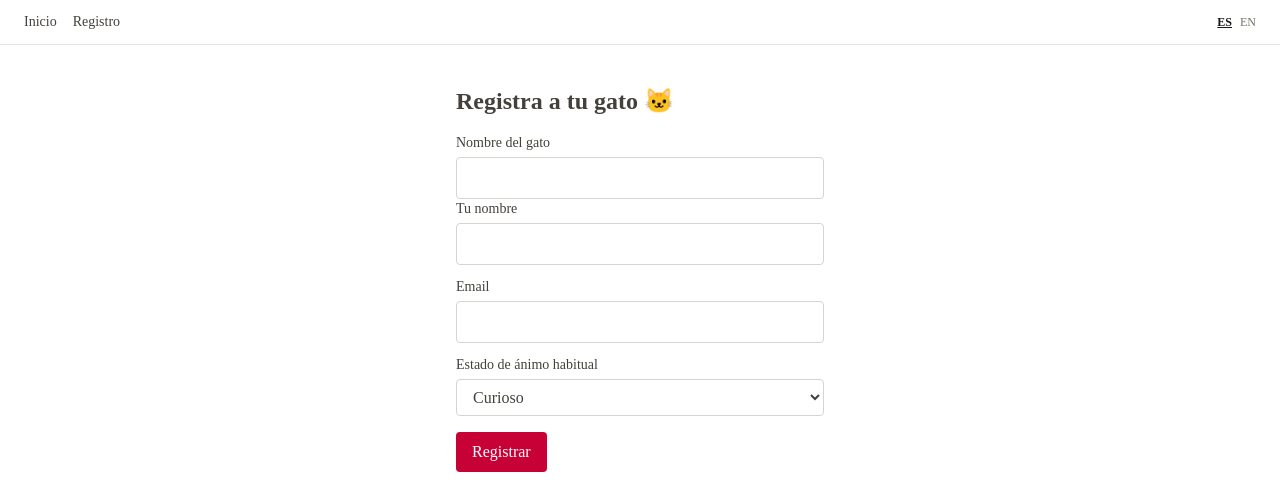
Cambio de idioma en Registro › el formulario cambia de español a inglés sin perder la ruta
Expected: the heading "Registra a tu gato 🐱" is shown, [456, 88, 674, 114]
Click the link "EN" at (1248, 22), box [1240, 14, 1256, 30]
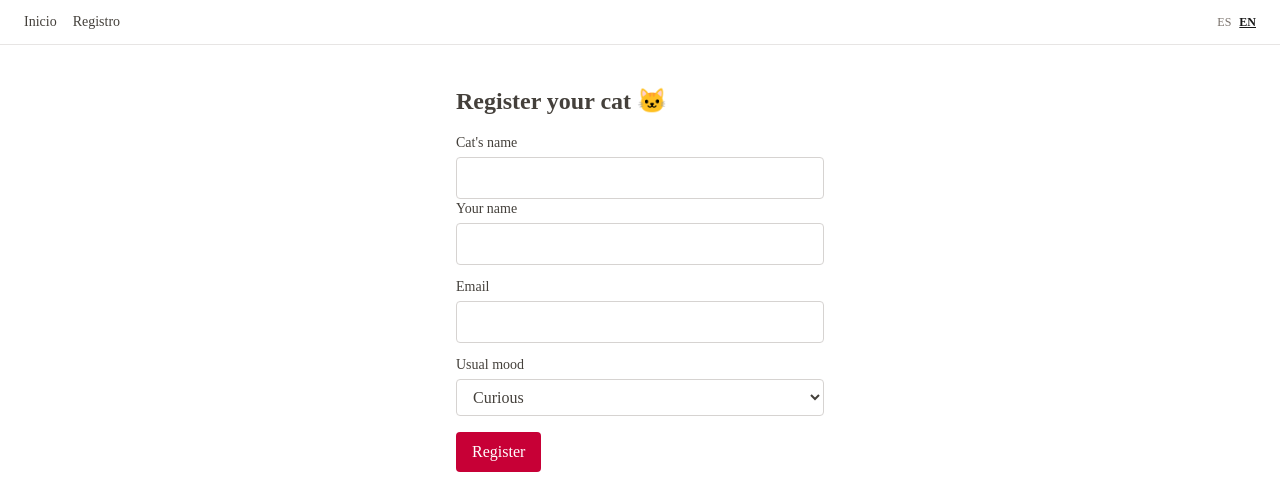
Now the heading "Register your cat 🐱" is shown, box [456, 88, 667, 114]
